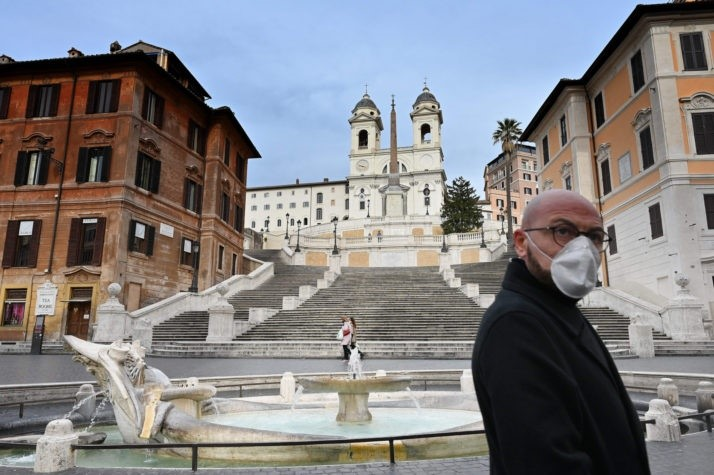face_with_mask: (509, 184, 617, 313)
